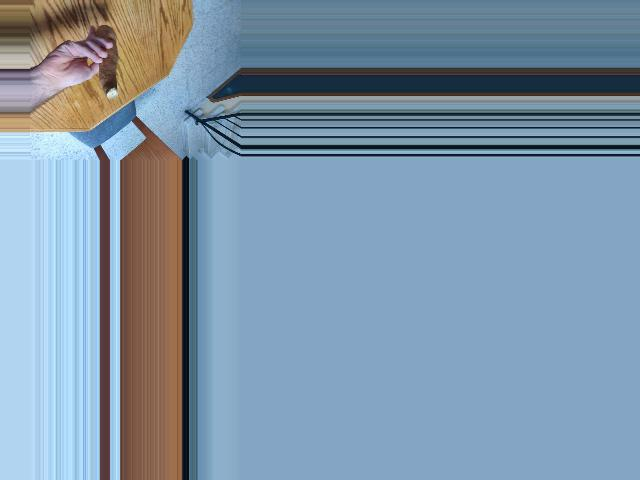sweet_potato: (101, 37, 116, 100)
